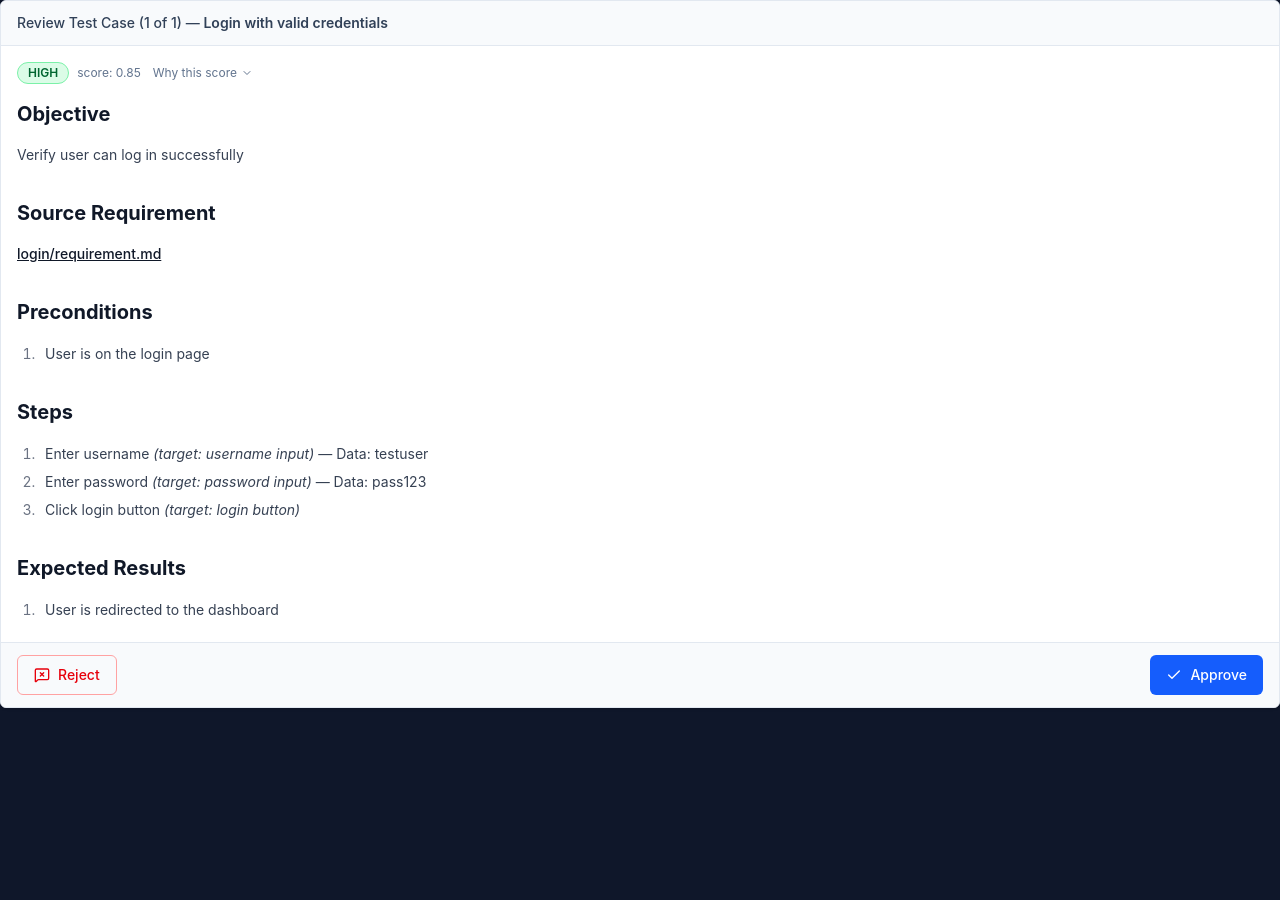
Test case: MaryReviewPanel › AC1 — Confidence badge › toggles confidence rationale on each click of 'Why this score'
The width and height of the screenshot is (1280, 900).
Check: the text "All structural fields present" is not shown
// First click reveals it.
Step 1. Click the button with aria-label "Toggle confidence rationale" → (203, 73), box [149,65,257,81]
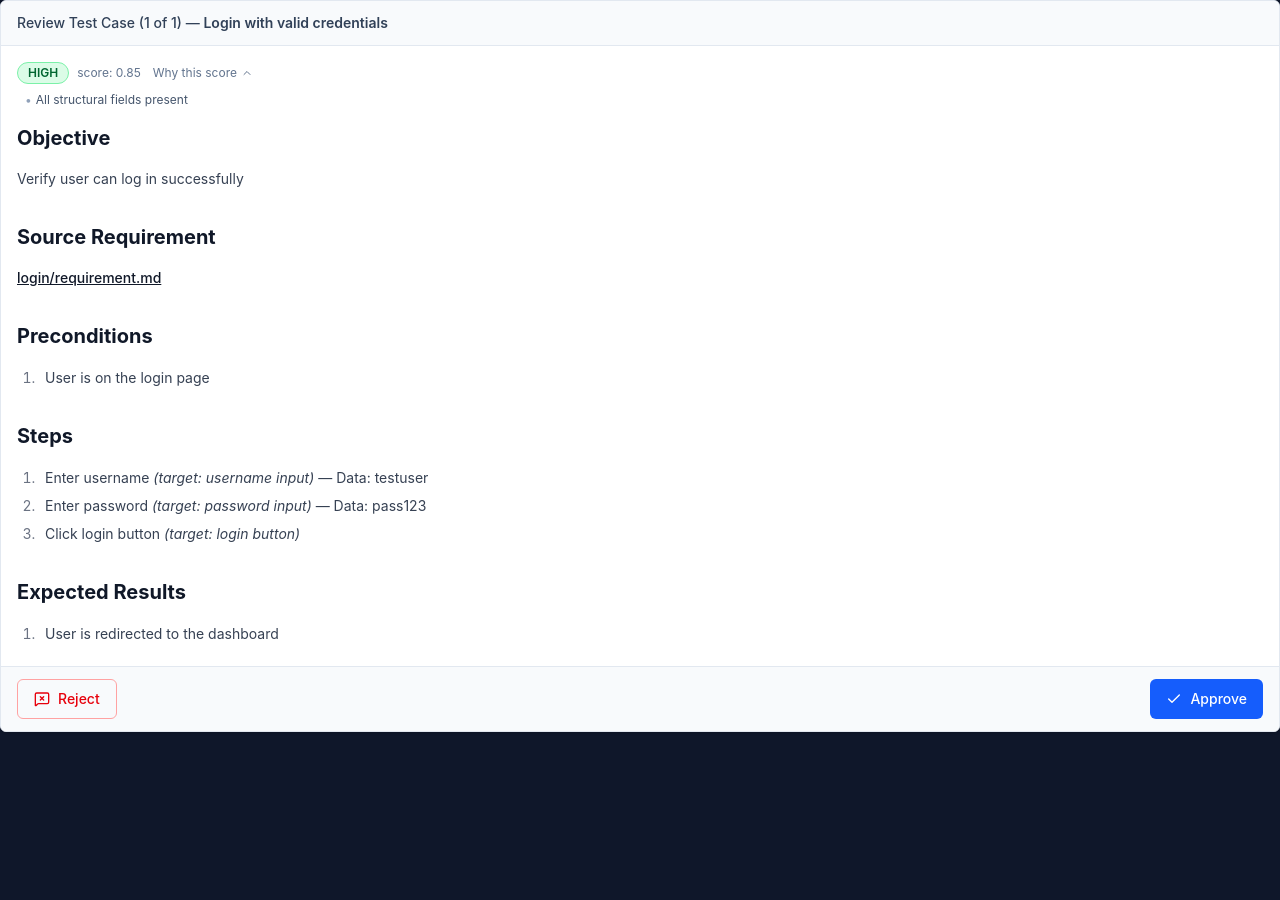
Check: the list item "• All structural fields present" is shown, box [25,92,188,107]
// Second click hides it again.
Step 2. Click the button with aria-label "Toggle confidence rationale" → (203, 73), box [149,65,257,81]
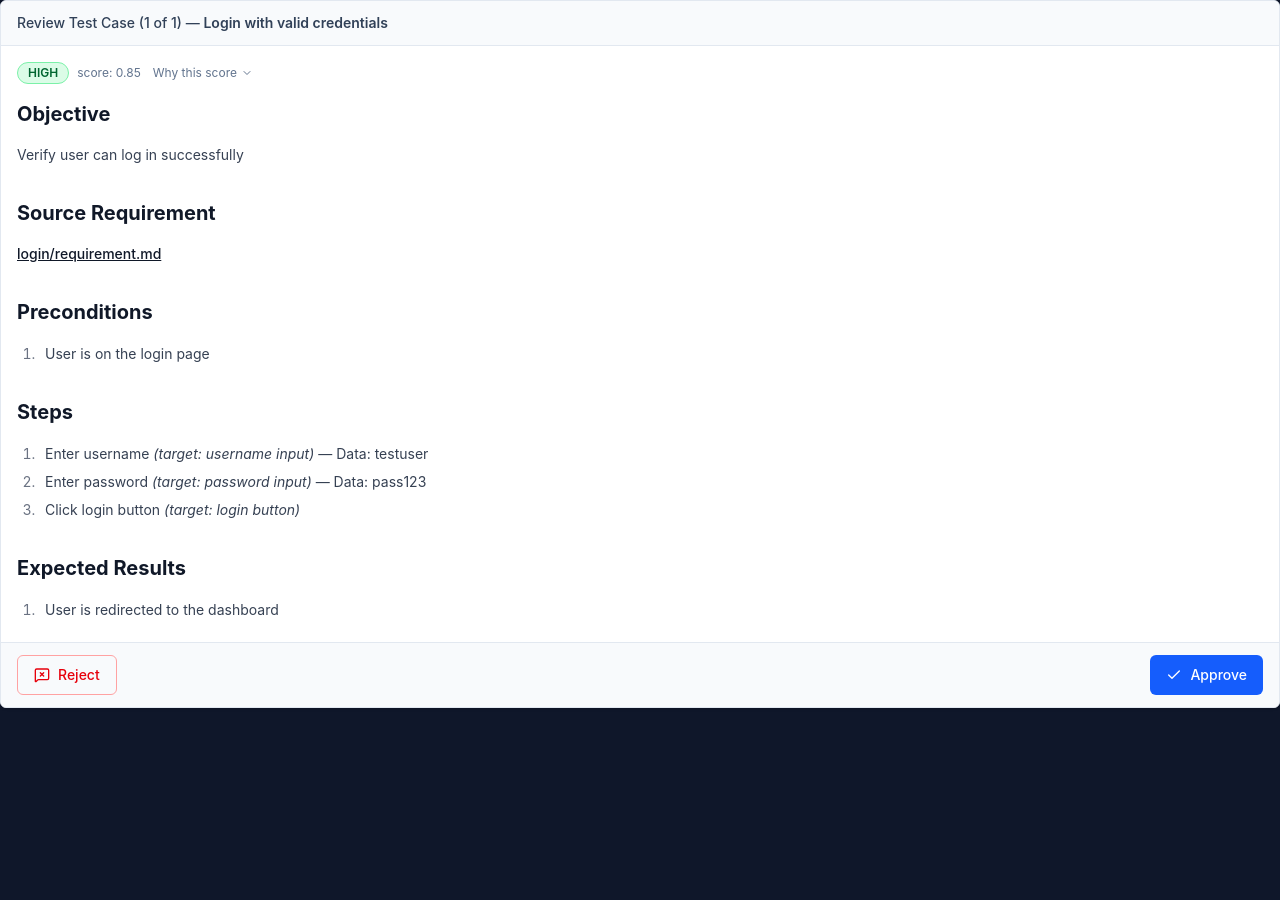
Check: the list item "All structural fields present" is gone
